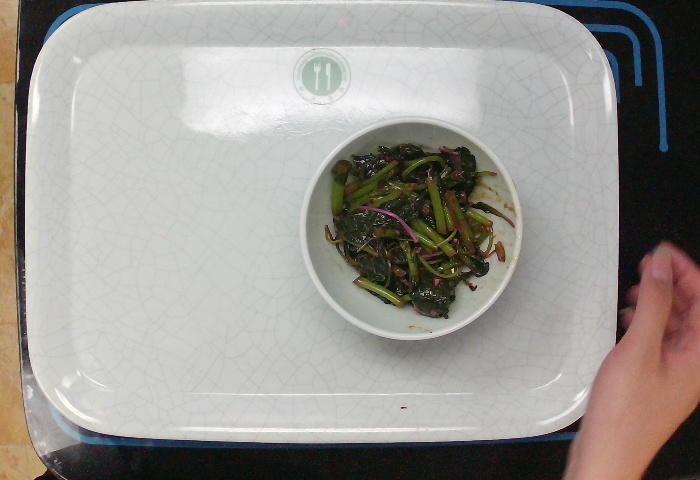JYsf-Fan_Wan: (295, 112, 526, 345)
